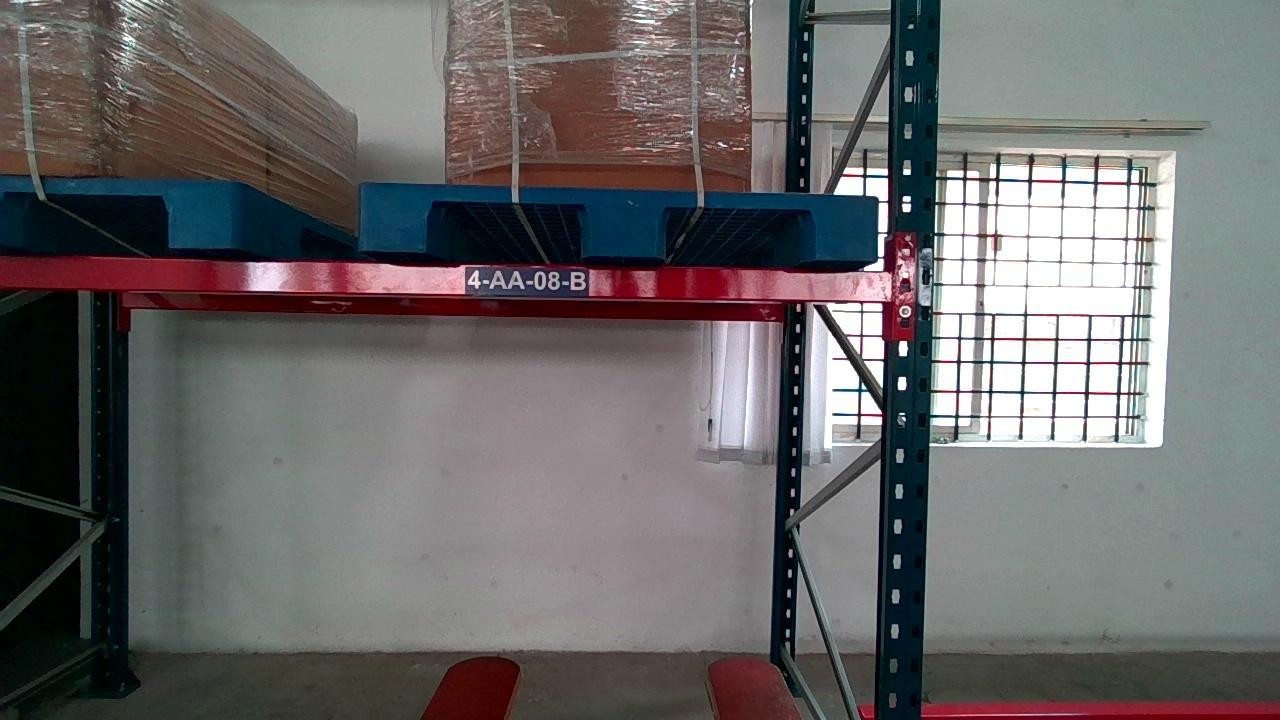h_rack: (0, 253, 894, 303)
small_pallet: (361, 185, 877, 261)
